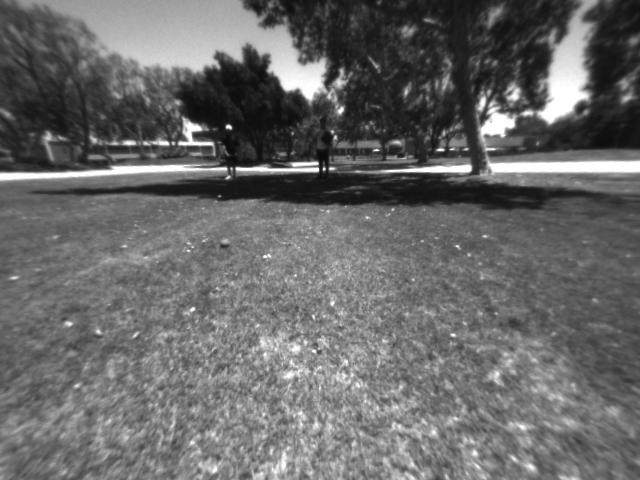dogtoy: (210, 233, 238, 252)
